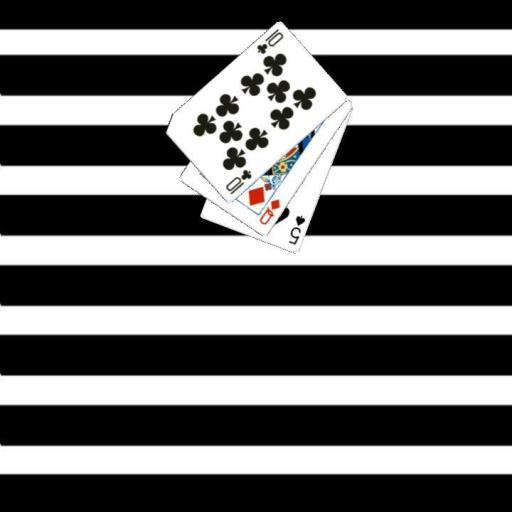10C: (253, 26, 285, 56), (222, 167, 253, 197)
5S: (285, 213, 307, 247)
QD: (256, 196, 282, 227)
